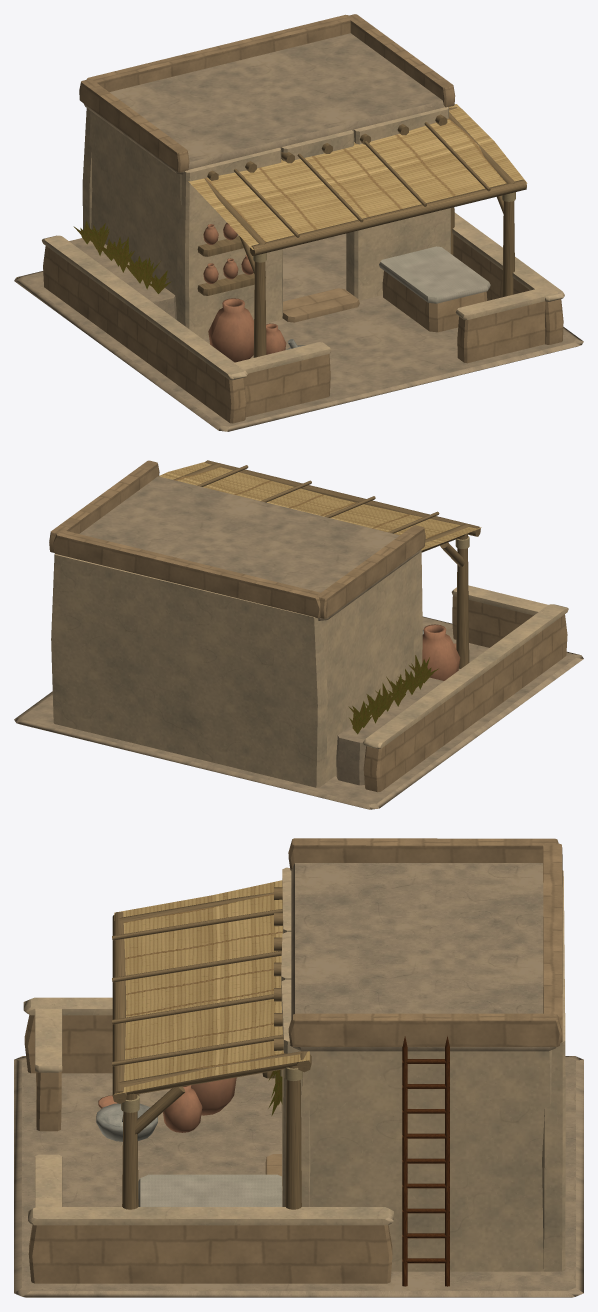
The model's file is healer.glb.
The picture shows the model from 3 angles, top to bottom: view 1: azimuth 30°, elevation 25°; view 2: azimuth 150°, elevation 25°; view 3: azimuth 270°, elevation 25°; orthographic projection. The views are drawn at different scales.
Visible parts, largest first — view 1: original-healer-alluvial-earth, original-healer-warm-clay-plaster, original-healer-game-raw-brick-facing, original-healer-laid-reed-thatch, original-healer-worn-timber, original-healer-woven-linen, original-healer-fired-pottery, original-healer-dry-river-grass; view 2: original-healer-warm-clay-plaster, original-healer-alluvial-earth, original-healer-game-raw-brick-facing, original-healer-laid-reed-thatch, original-healer-worn-timber, original-healer-dry-river-grass, original-healer-fired-pottery; view 3: original-healer-alluvial-earth, original-healer-warm-clay-plaster, original-healer-game-raw-brick-facing, original-healer-laid-reed-thatch, original-healer-worn-timber, original-healer-woven-linen, roof-access-healer, original-healer-fired-pottery, workshop-healer-courtyard-stone.
Part boxes in pixels (x1,y1,x2,y2): original-healer-alluvial-earth: (14, 33, 583, 431); original-healer-warm-clay-plaster: (42, 107, 564, 380); original-healer-game-raw-brick-facing: (43, 14, 563, 423); original-healer-laid-reed-thatch: (188, 104, 527, 249); original-healer-worn-timber: (197, 107, 526, 357); original-healer-woven-linen: (379, 246, 490, 303); original-healer-fired-pottery: (203, 223, 286, 362); original-healer-dry-river-grass: (73, 220, 171, 293); original-healer-warm-clay-plaster: (51, 549, 568, 787); original-healer-alluvial-earth: (14, 476, 583, 809); original-healer-game-raw-brick-facing: (49, 460, 567, 792); original-healer-laid-reed-thatch: (159, 462, 481, 550); original-healer-worn-timber: (173, 460, 480, 668); original-healer-dry-river-grass: (348, 655, 438, 734); original-healer-fired-pottery: (422, 624, 460, 680); original-healer-alluvial-earth: (14, 863, 583, 1297); original-healer-warm-clay-plaster: (23, 867, 565, 1271); original-healer-game-raw-brick-facing: (24, 838, 562, 1283); original-healer-laid-reed-thatch: (114, 880, 309, 1094); original-healer-worn-timber: (112, 887, 311, 1209); original-healer-woven-linen: (138, 1174, 282, 1206); roof-access-healer: (402, 1036, 449, 1286); original-healer-fired-pottery: (98, 1077, 236, 1132); workshop-healer-courtyard-stone: (96, 1103, 157, 1141).
Bounding box in the file's own units: 5.37 × 2.69 × 5.37.
12 materials, 11 textured.
